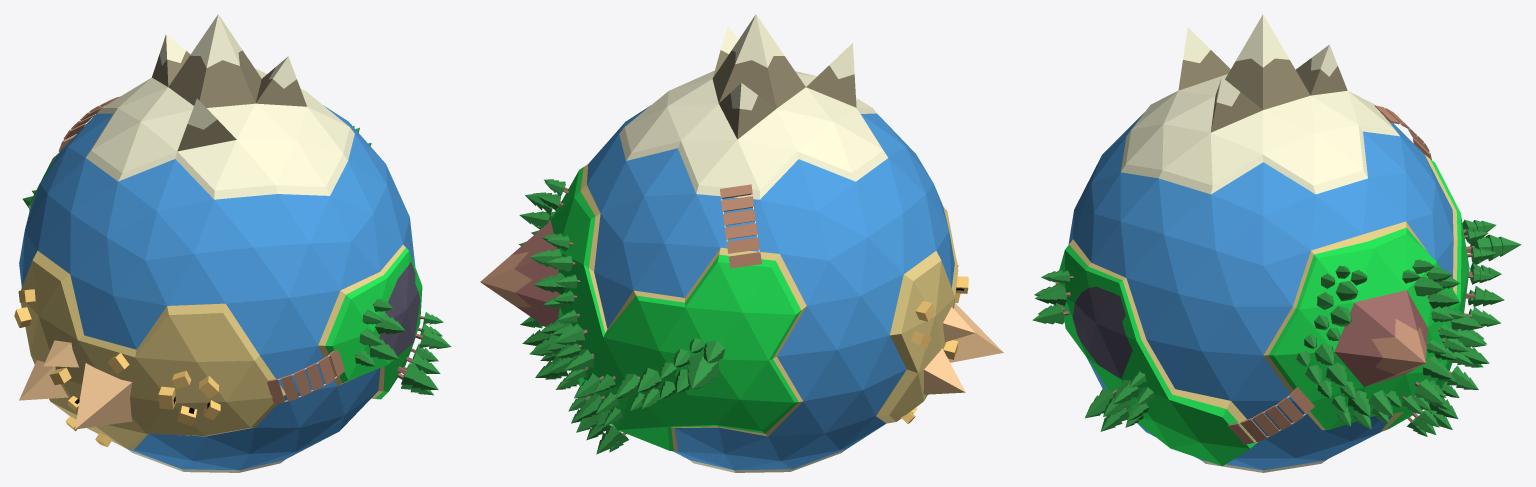
3 renders of one model, left to right at view 1: azimuth 30°, elevation 25°; view 2: azimuth 150°, elevation 25°; view 3: azimuth 270°, elevation 25°, orthographic.
Visible parts, largest first — view 1: Planet, Cone.003, Cube.002_Bridge_0, Cone.001, Cone.002, Cylinder.007, Cube_Bridge_0; view 2: Planet, Cube_Bridge_0, Cone.001, Cone.003, Cone.236, Cone.002; view 3: Planet, Cube.001_Bridge_0, Cone.236.
Part boxes in pixels (x1,y1,x2,y2): Planet: (19,14,422,472); Cone.003: (75,363,132,429); Cube.002_Bridge_0: (267,349,344,404); Cone.001: (19,360,68,400); Cone.002: (43,340,78,367); Cylinder.007: (397,362,438,389); Cube_Bridge_0: (58,96,120,151); Planet: (480,14,958,472); Cube_Bridge_0: (720,184,761,268); Cone.001: (923,348,965,394); Cone.003: (948,302,1003,362); Cone.236: (687,351,718,389); Cone.002: (943,307,975,342); Planet: (1058,14,1469,472); Cube.001_Bridge_0: (1228,387,1314,444); Cone.236: (1466,234,1521,264).
Size of the model in its own units: 235 by 245 by 246.
